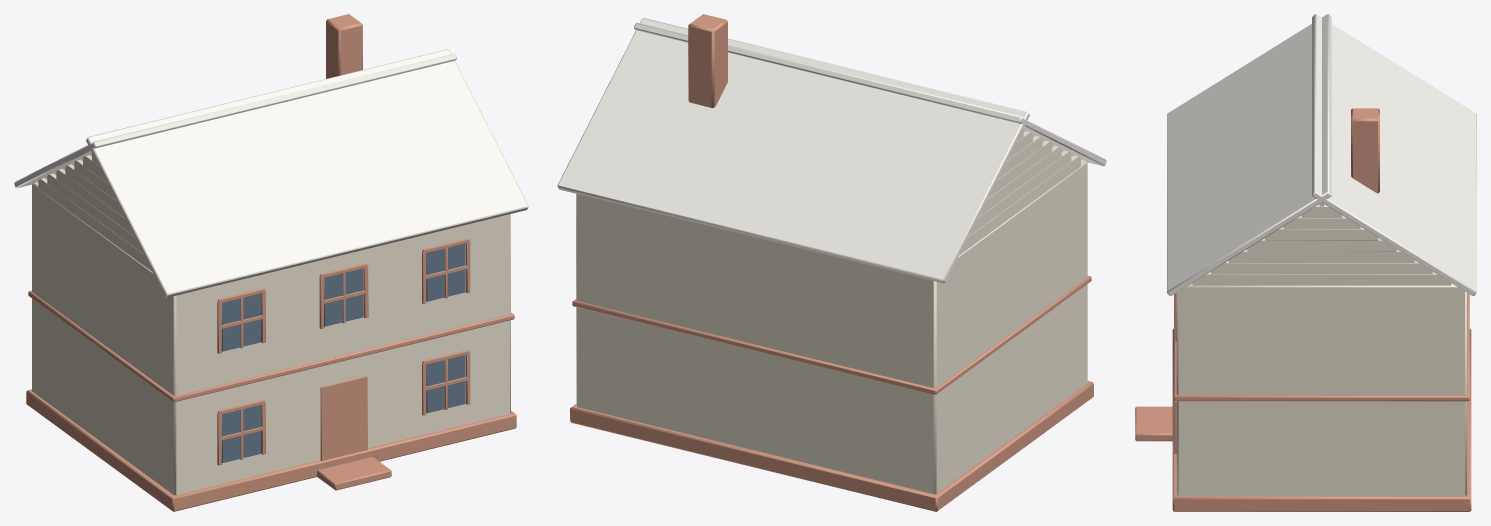
File: house_a.glb
3 views of the same model, side by side, from view 1: azimuth 30°, elevation 25°; view 2: azimuth 150°, elevation 25°; view 3: azimuth 270°, elevation 25° (orthographic). The views are drawn at different scales.
Visible parts, largest first — view 1: house_a; view 2: house_a; view 3: house_a.
Part boxes in pixels (x1,y1,x2,y2): house_a: (14,14,528,511); house_a: (557,14,1106,511); house_a: (1135,14,1476,511).
Size of the model in its own units: 10.2 by 9.68 by 8.23.
